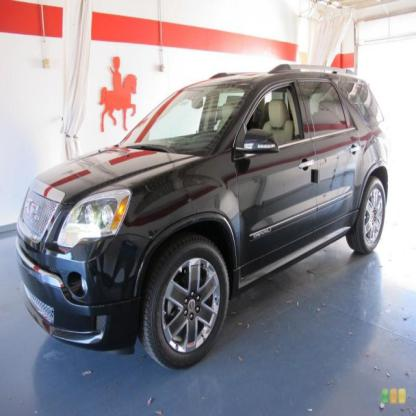Vehicle: (14, 61, 390, 372)
